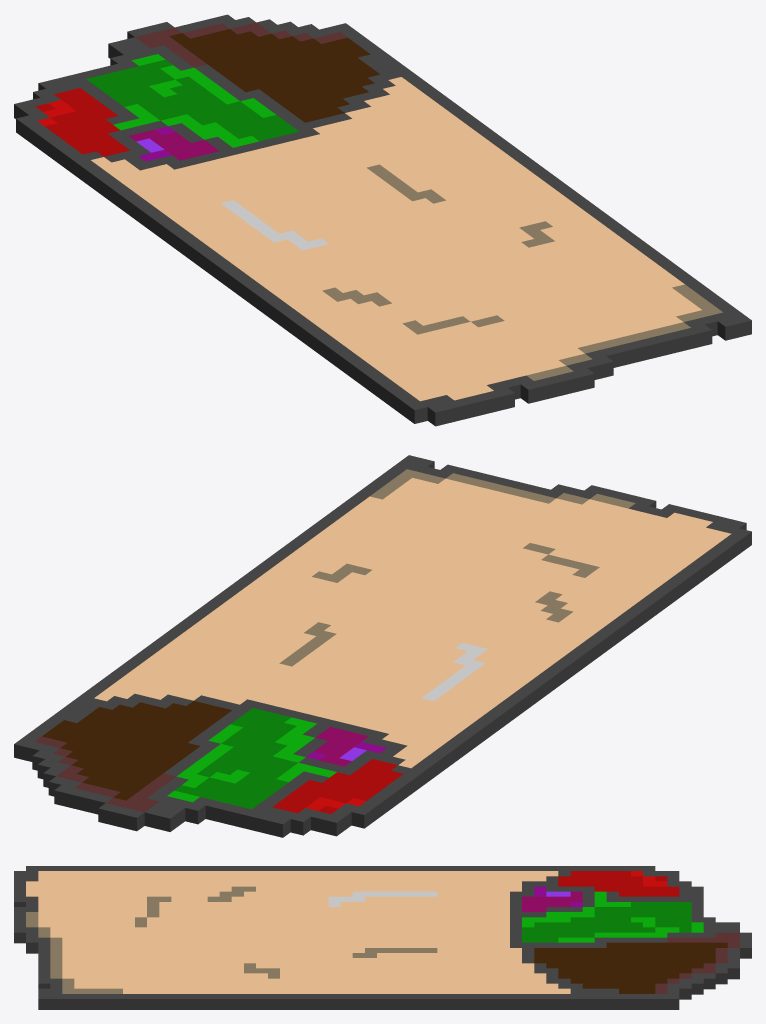
File: shava.obj
3 renders of one model, top to bottom at view 1: azimuth 30°, elevation 25°; view 2: azimuth 150°, elevation 25°; view 3: azimuth 270°, elevation 25°, orthographic. The views are drawn at different scales.
Visible parts, largest first — view 1: shava; view 2: shava; view 3: shava.
Part boxes in pixels (x1,y1,x2,y2): shava: (14, 14, 751, 426); shava: (14, 455, 751, 837); shava: (14, 866, 751, 1009).
Bounding box in the file's own units: 26 × 1 × 61.
1 material, 1 textured.
